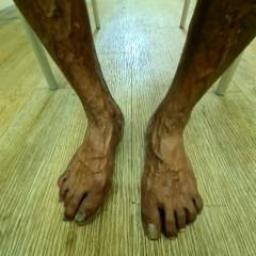Dorsal View -Both Feet-: (36, 74, 232, 248)
